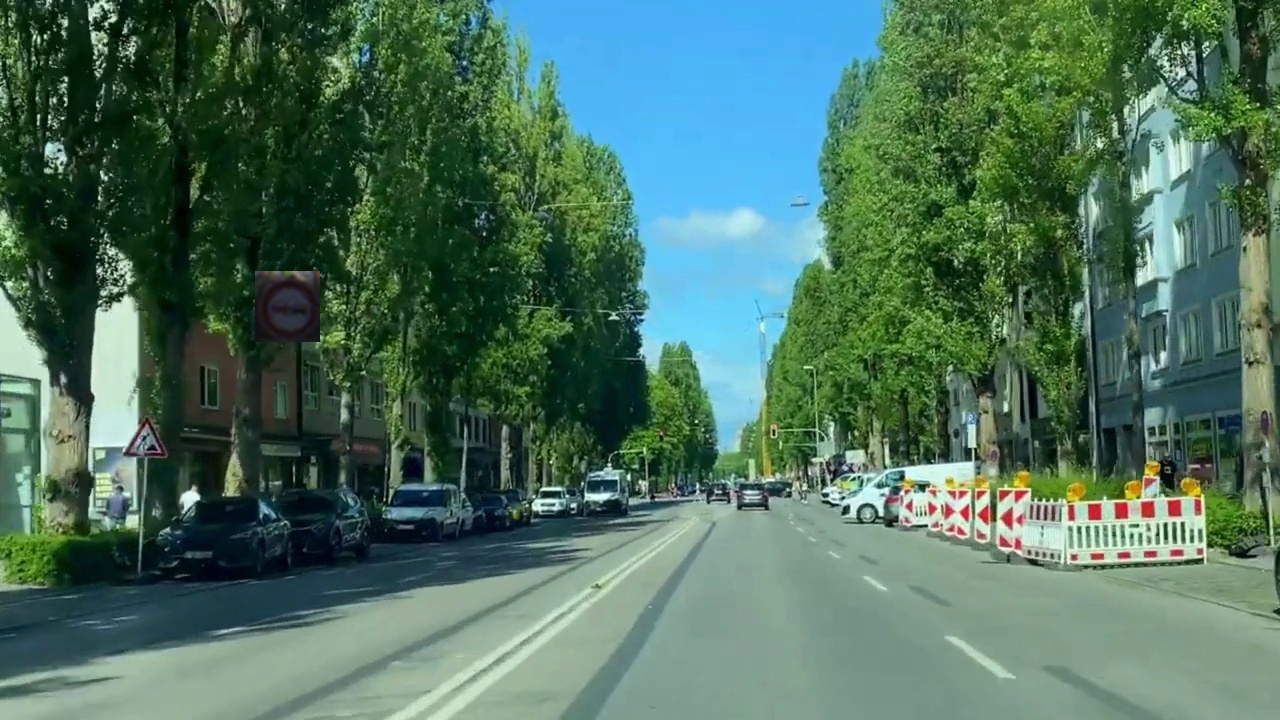No passing: (255, 271, 320, 342)
